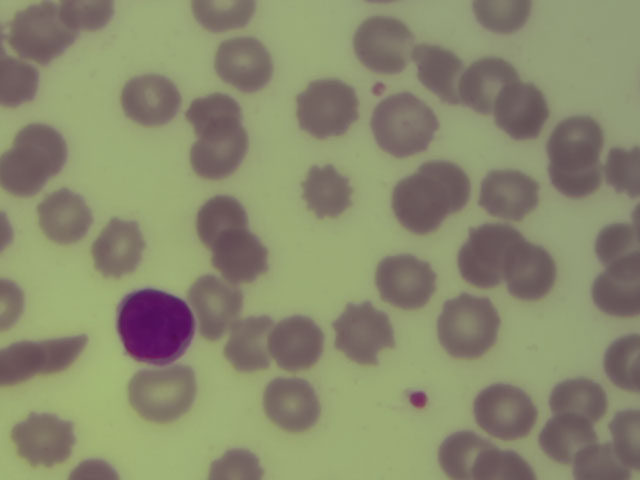Platlets: (410, 388, 427, 411), (372, 81, 384, 96)
RBC: (366, 91, 439, 154), (6, 1, 79, 63), (130, 370, 201, 423), (442, 296, 499, 360), (336, 302, 394, 364), (297, 81, 360, 137), (376, 250, 434, 309), (479, 384, 537, 443), (265, 381, 324, 438), (359, 17, 415, 75), (12, 416, 75, 467), (496, 80, 548, 141), (461, 55, 517, 111), (97, 218, 145, 282), (191, 127, 245, 182), (214, 233, 270, 285), (194, 277, 238, 341), (393, 177, 446, 230), (37, 187, 90, 240), (126, 77, 183, 126), (546, 114, 604, 162), (592, 218, 640, 275), (19, 120, 71, 172), (487, 170, 540, 221), (504, 248, 555, 300), (218, 40, 272, 88), (593, 266, 639, 322), (543, 416, 600, 461), (418, 41, 460, 102), (424, 161, 472, 213), (277, 314, 321, 369), (441, 431, 490, 480), (555, 380, 606, 427), (475, 227, 527, 273), (468, 1, 533, 37), (310, 165, 352, 220), (555, 154, 604, 200), (457, 246, 506, 291), (228, 316, 268, 371), (35, 329, 87, 371), (200, 198, 248, 243), (1, 149, 46, 197), (605, 334, 640, 394), (3, 51, 40, 106), (1, 344, 45, 389), (578, 443, 628, 480), (191, 2, 253, 30), (613, 409, 640, 467), (62, 1, 113, 31), (216, 451, 264, 480), (2, 276, 19, 337), (610, 144, 628, 196), (72, 461, 121, 480), (620, 151, 640, 197), (3, 210, 14, 261), (628, 208, 640, 247)
WBC: (118, 293, 195, 363)
